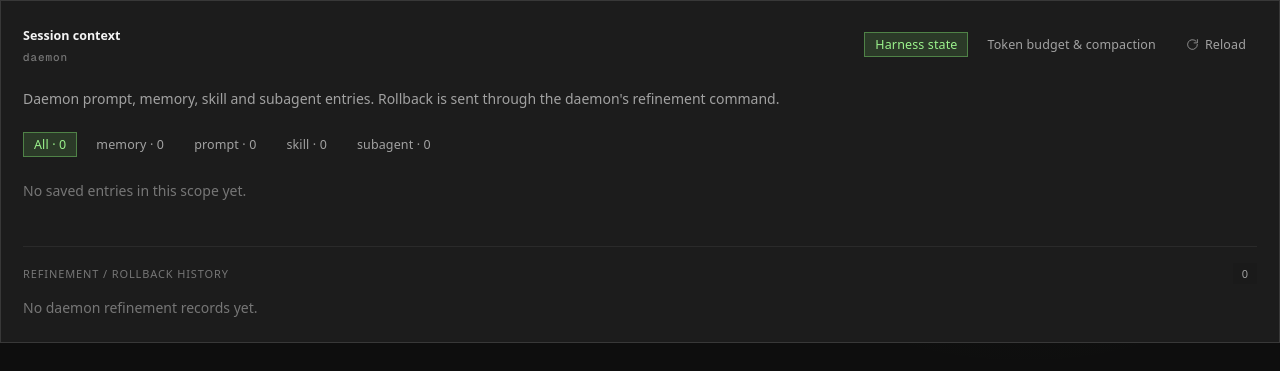
HarnessStatePanel native token budget › shows measured totals without invented tiers and waits for the next response after summarizing
The width and height of the screenshot is (1280, 371).
Click the button "Token budget & compaction". click: (1072,44)
box: [976, 32, 1167, 57]
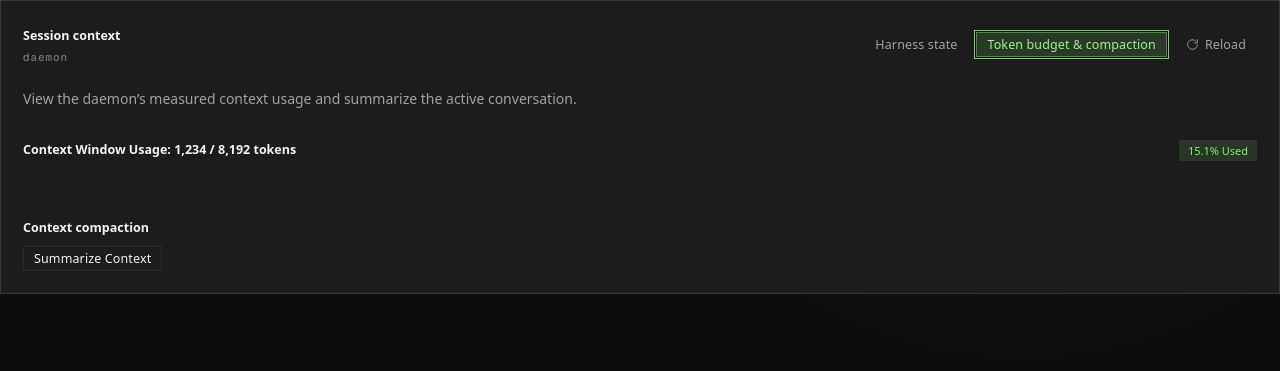
Now the text "Context Window Usage: 1,234 / 8,192 tokens" is shown, box [23, 142, 296, 160]
Now the text "15.1% Used" is shown, box [1179, 140, 1257, 161]
Click the button "Summarize Context". click: (93,259)
box: [23, 246, 162, 271]
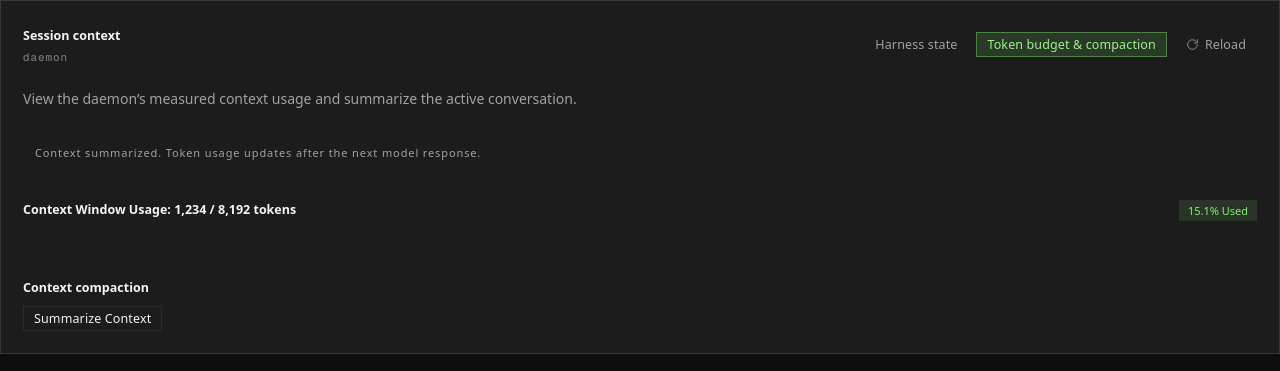
Now the text "Context summarized. Token usage updates after the next model response." is shown, box [35, 145, 481, 160]
